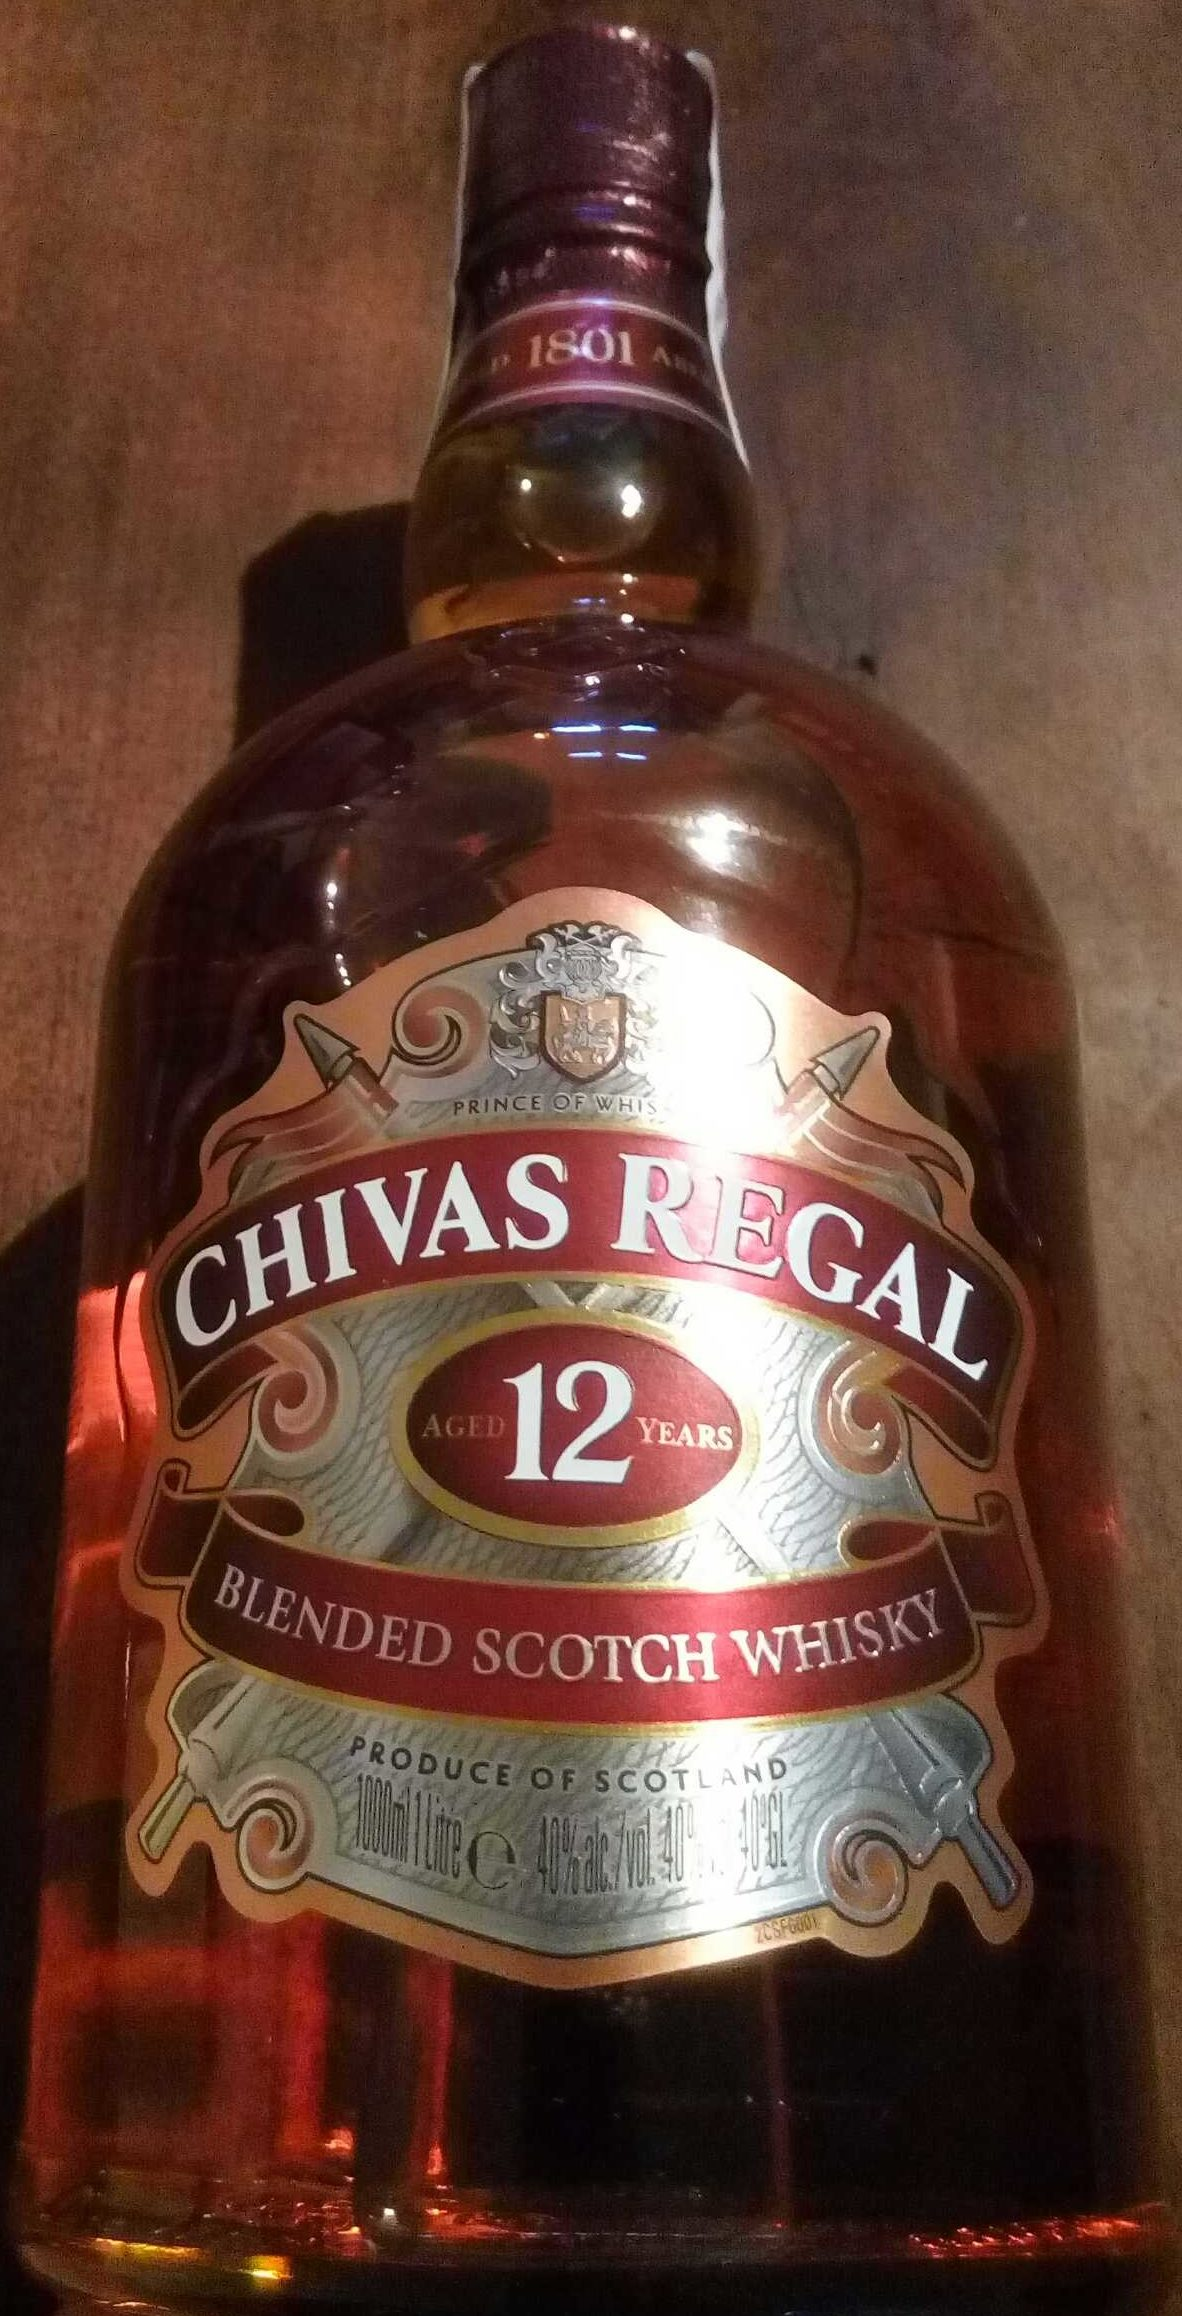Chivas Regal: (5, 6, 1182, 2313)
